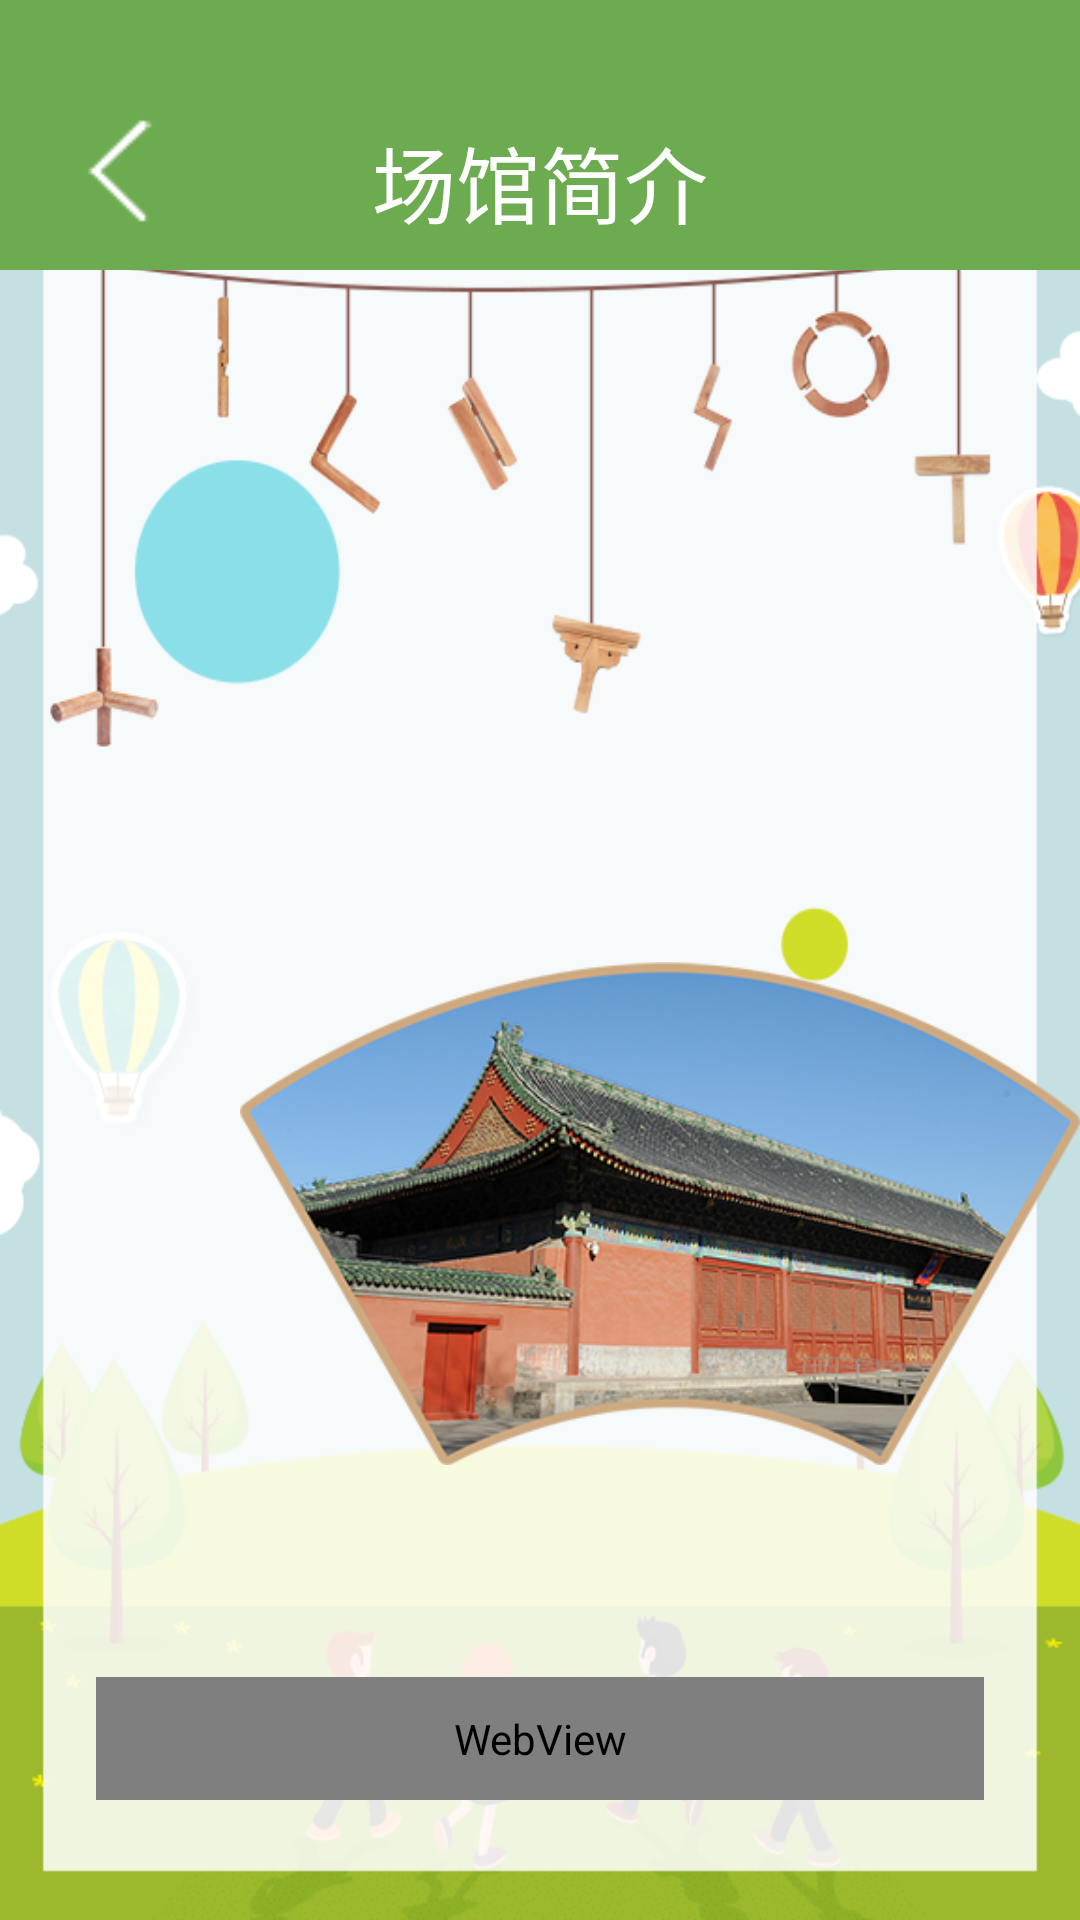

Where to tap for icons on this 1080px x 1920px app screen, as (x=x, y=y):
dao back: (x=120, y=171)
